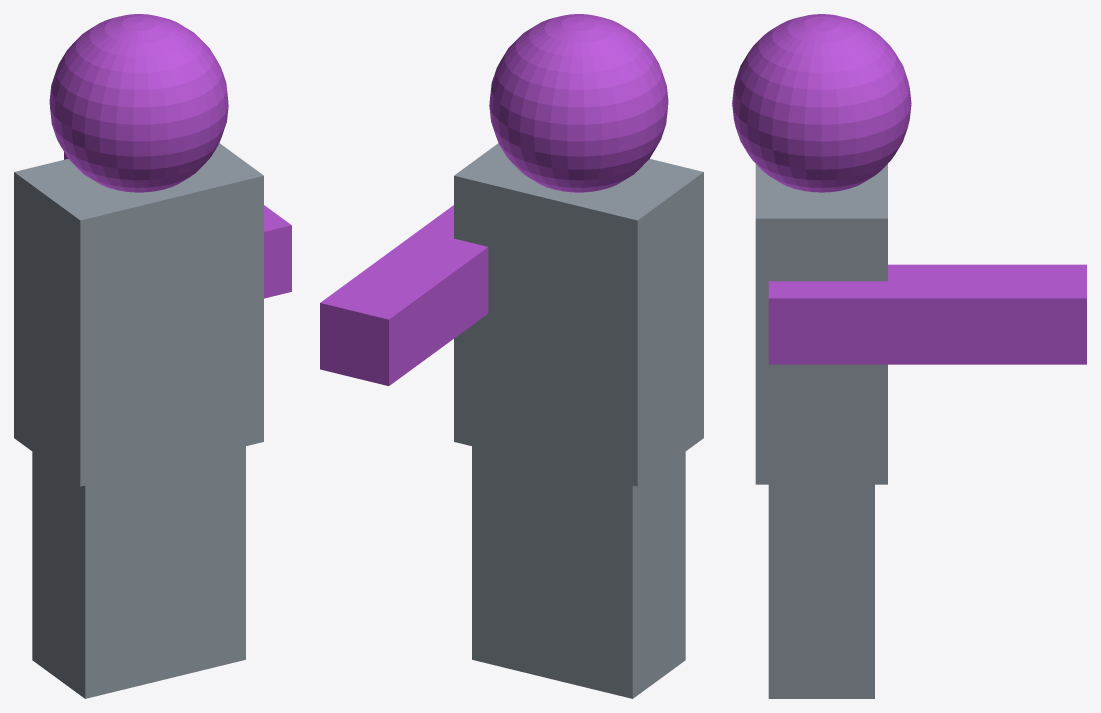
The model's file is CH_CensorOperative_LOD0.glb.
The picture shows the model from 3 angles, left to right: view 1: azimuth 30°, elevation 25°; view 2: azimuth 150°, elevation 25°; view 3: azimuth 270°, elevation 25°; orthographic projection.
Parts seen in each view (by area): view 1: Head; view 2: Head; view 3: Head.
Part boxes in pixels (<box>): Head: <box>14,14,291,698</box>; Head: <box>320,14,703,698</box>; Head: <box>732,14,1086,698</box>.
Bounding box in the file's own units: 61.75 × 172 × 87.
